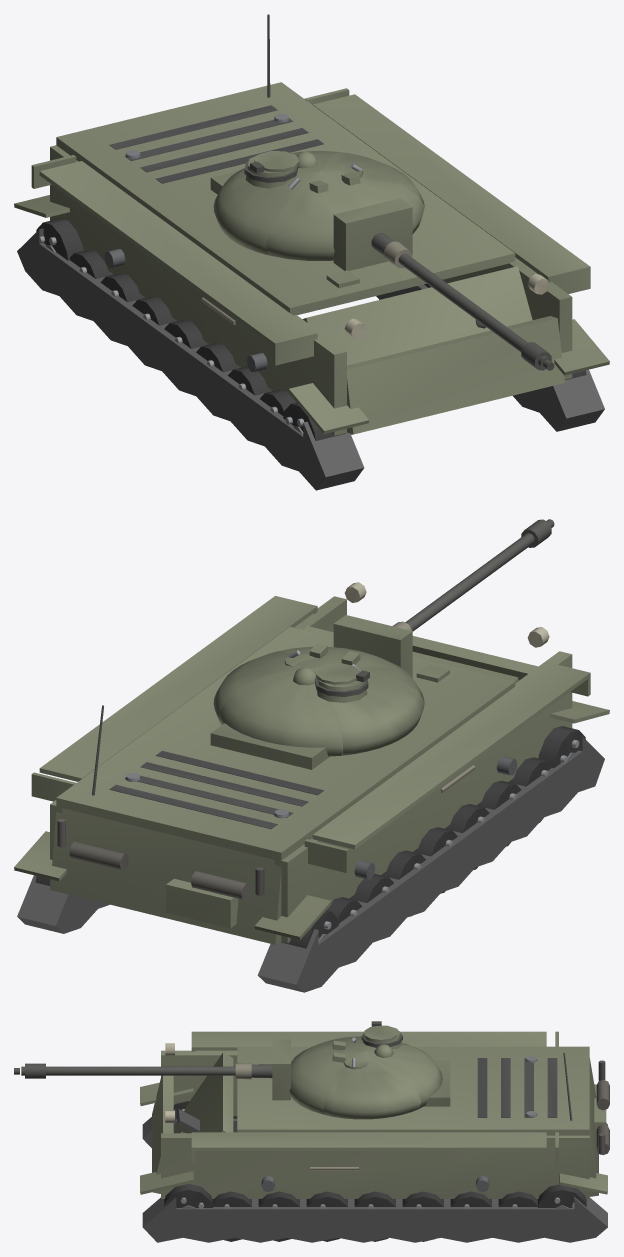
The picture shows the model from 3 angles, top to bottom: view 1: azimuth 30°, elevation 25°; view 2: azimuth 150°, elevation 25°; view 3: azimuth 270°, elevation 25°; orthographic projection. The views are drawn at different scales.
Visible parts, largest first — view 1: hullSide, hullTop, tracks, lowerPlate, glacis, turretFront, turretSide, mantlet, barrel, turretRoof, wheel8, wheel1 (+7 smaller); view 2: hullSide, hullTop, tracks, hullRear, turretRear, turretSide, turretRoof, mantlet, barrel, lowerPlate, turretFront, wheel7 (+8 smaller); view 3: hullSide, hullTop, tracks, turretSide, glacis, turretFront, barrel, turretRear, hullRear, turretRoof, lowerPlate, mantlet (+9 smaller).
Boxes of the visible parts, <box> form: hullSide: <box>31,88,590,435</box>; hullTop: <box>56,82,515,315</box>; tracks: <box>14,195,609,490</box>; lowerPlate: <box>347,316,564,434</box>; glacis: <box>302,266,532,434</box>; turretFront: <box>266,171,424,260</box>; turretSide: <box>213,152,424,254</box>; mantlet: <box>333,198,412,270</box>; barrel: <box>371,232,554,370</box>; turretRoof: <box>244,151,362,193</box>; wheel8: <box>36,218,83,260</box>; wheel1: <box>100,273,145,302</box>; hullSide: <box>31,582,590,943</box>; hullTop: <box>56,627,515,860</box>; tracks: <box>14,701,609,992</box>; hullRear: <box>50,705,282,944</box>; turretRear: <box>210,667,342,769</box>; turretSide: <box>213,651,424,755</box>; turretRoof: <box>284,643,369,702</box>; mantlet: <box>333,615,412,677</box>; barrel: <box>392,519,554,631</box>; lowerPlate: <box>412,636,538,680</box>; turretFront: <box>278,646,424,701</box>; wheel7: <box>538,726,585,767</box>; hullSide: <box>161,1031,589,1198</box>; hullTop: <box>237,1046,589,1135</box>; tracks: <box>140,1082,607,1242</box>; turretSide: <box>323,1036,421,1119</box>; glacis: <box>174,1052,233,1133</box>; turretFront: <box>289,1040,362,1114</box>; barrel: <box>14,1063,272,1079</box>; turretRear: <box>363,1045,450,1108</box>; hullRear: <box>563,1052,609,1196</box>; turretRoof: <box>332,1021,402,1069</box>; lowerPlate: <box>152,1075,173,1193</box>; mantlet: <box>272,1039,290,1100</box>.
Size of the model in its own units: 4.48 by 3.07 by 9.73.
